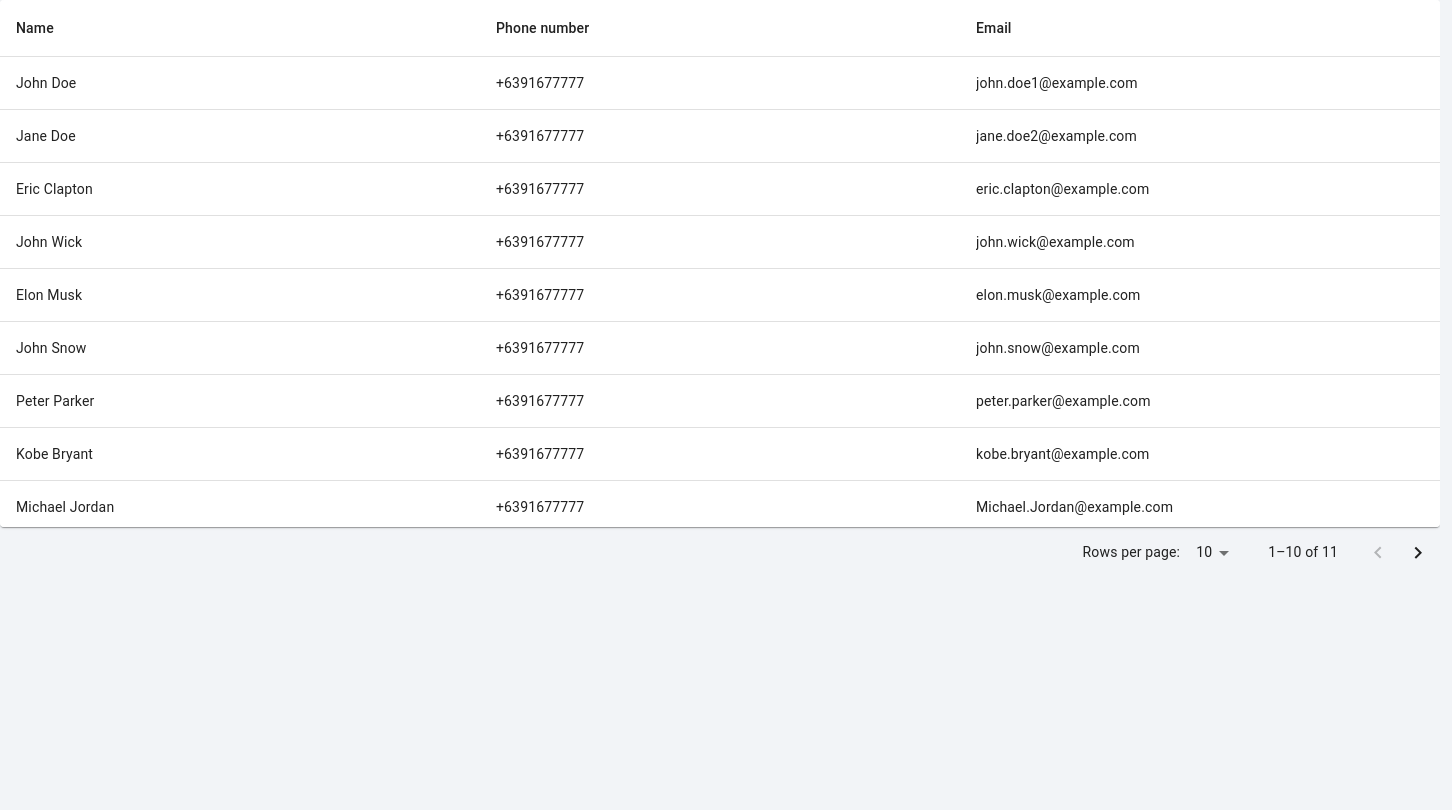
Test case: ClientsTable › Pagination › go back to previous page once previous button is clicked
This screenshot has width=1452, height=810.
Click the button named "Go to next page" at (1418, 552), box [1398,532,1438,572]
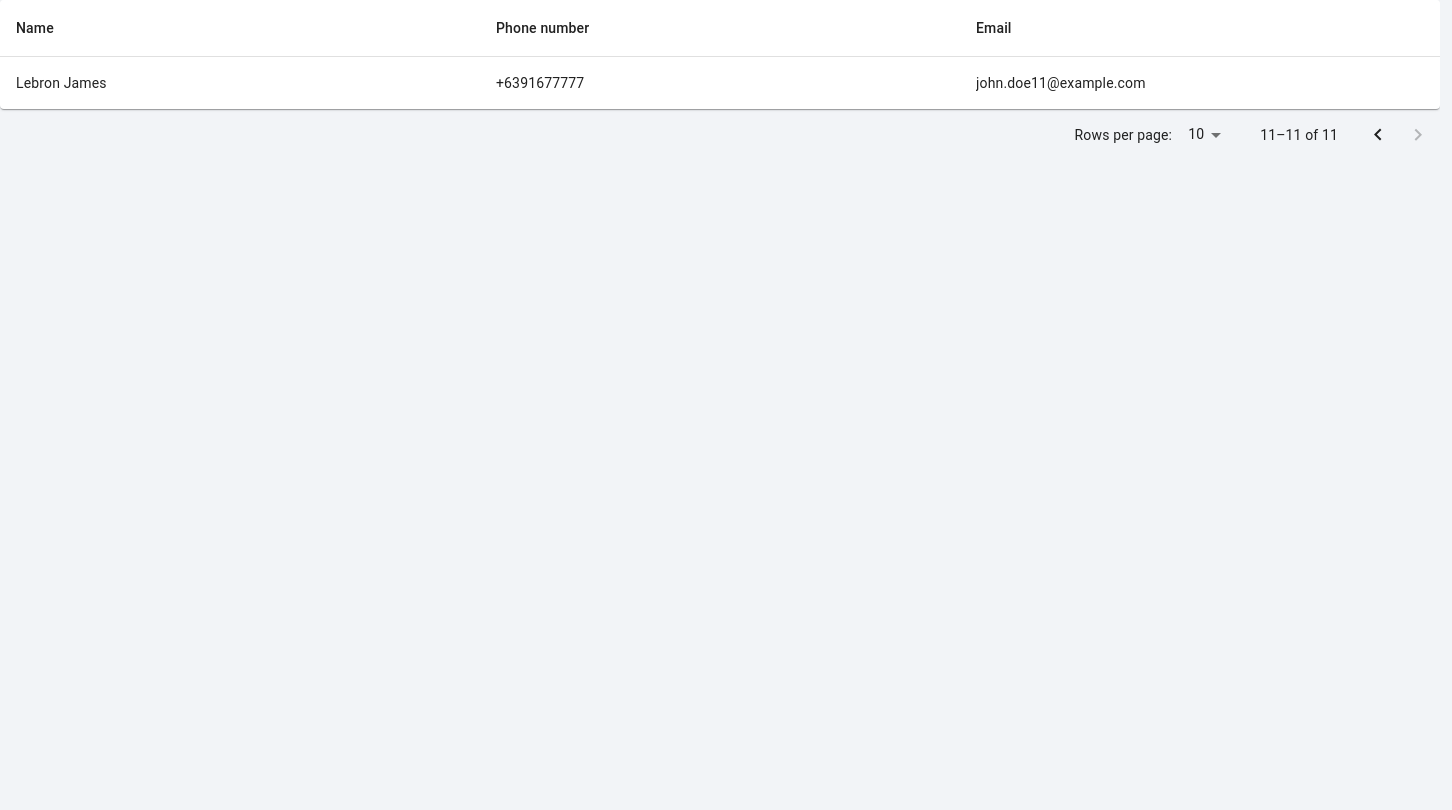
Click the button named "Go to previous page" at (1378, 135), box [1358,115,1398,155]
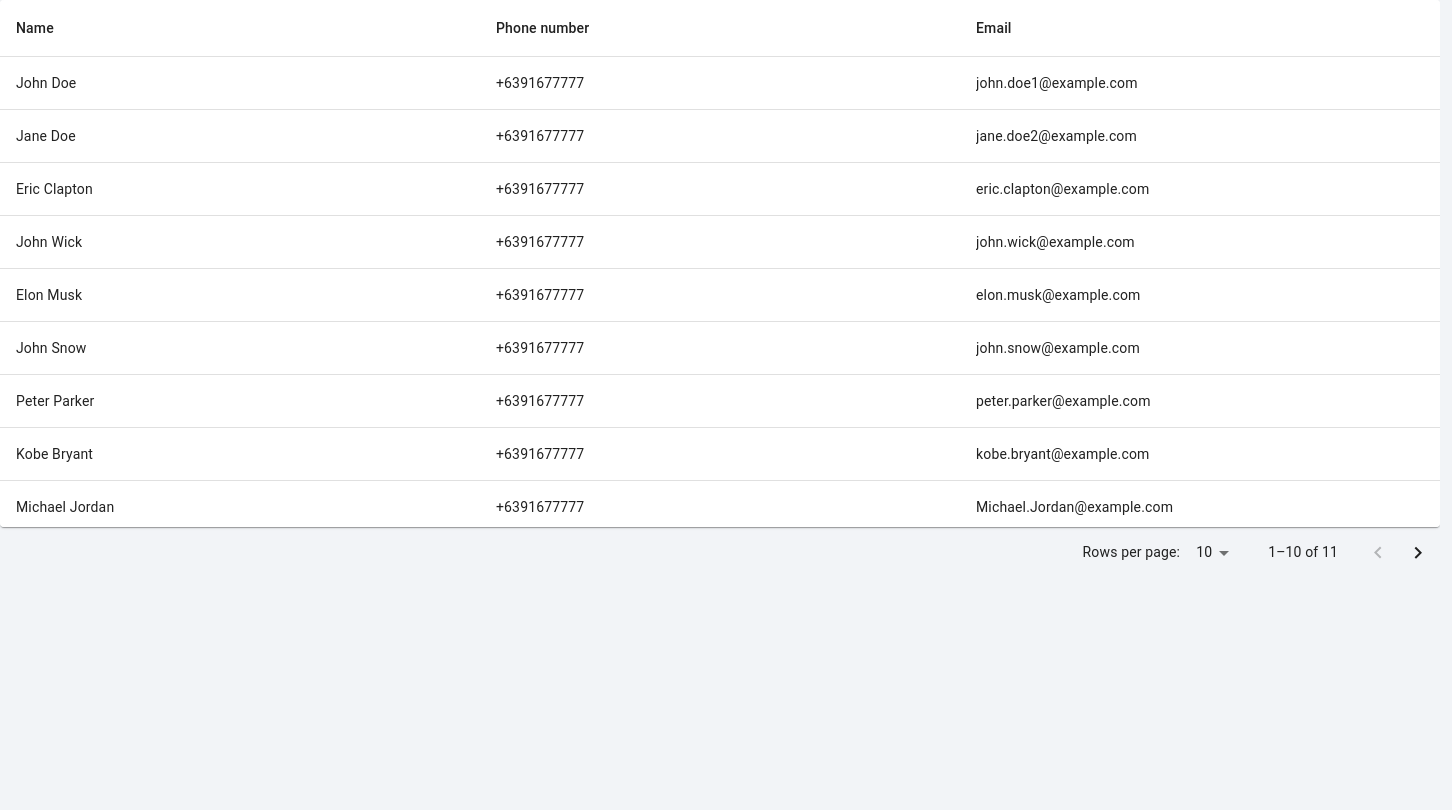
Result: the text "1–10 of 11" is shown at [1268,542,1338,562]
